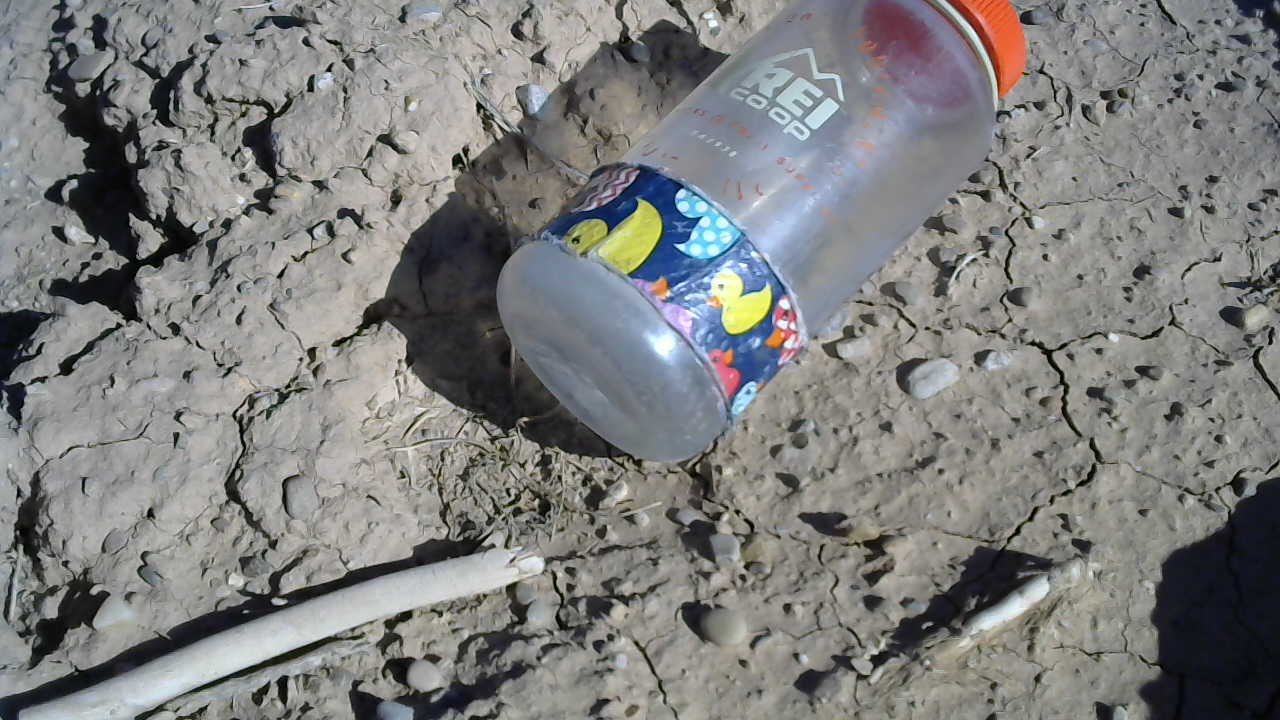bottle: (490, 6, 1030, 473)
